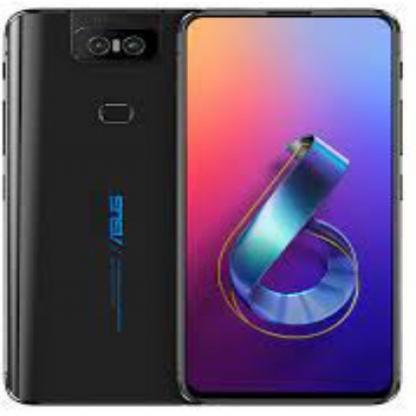SMARTPHONE: (4, 8, 411, 416)
